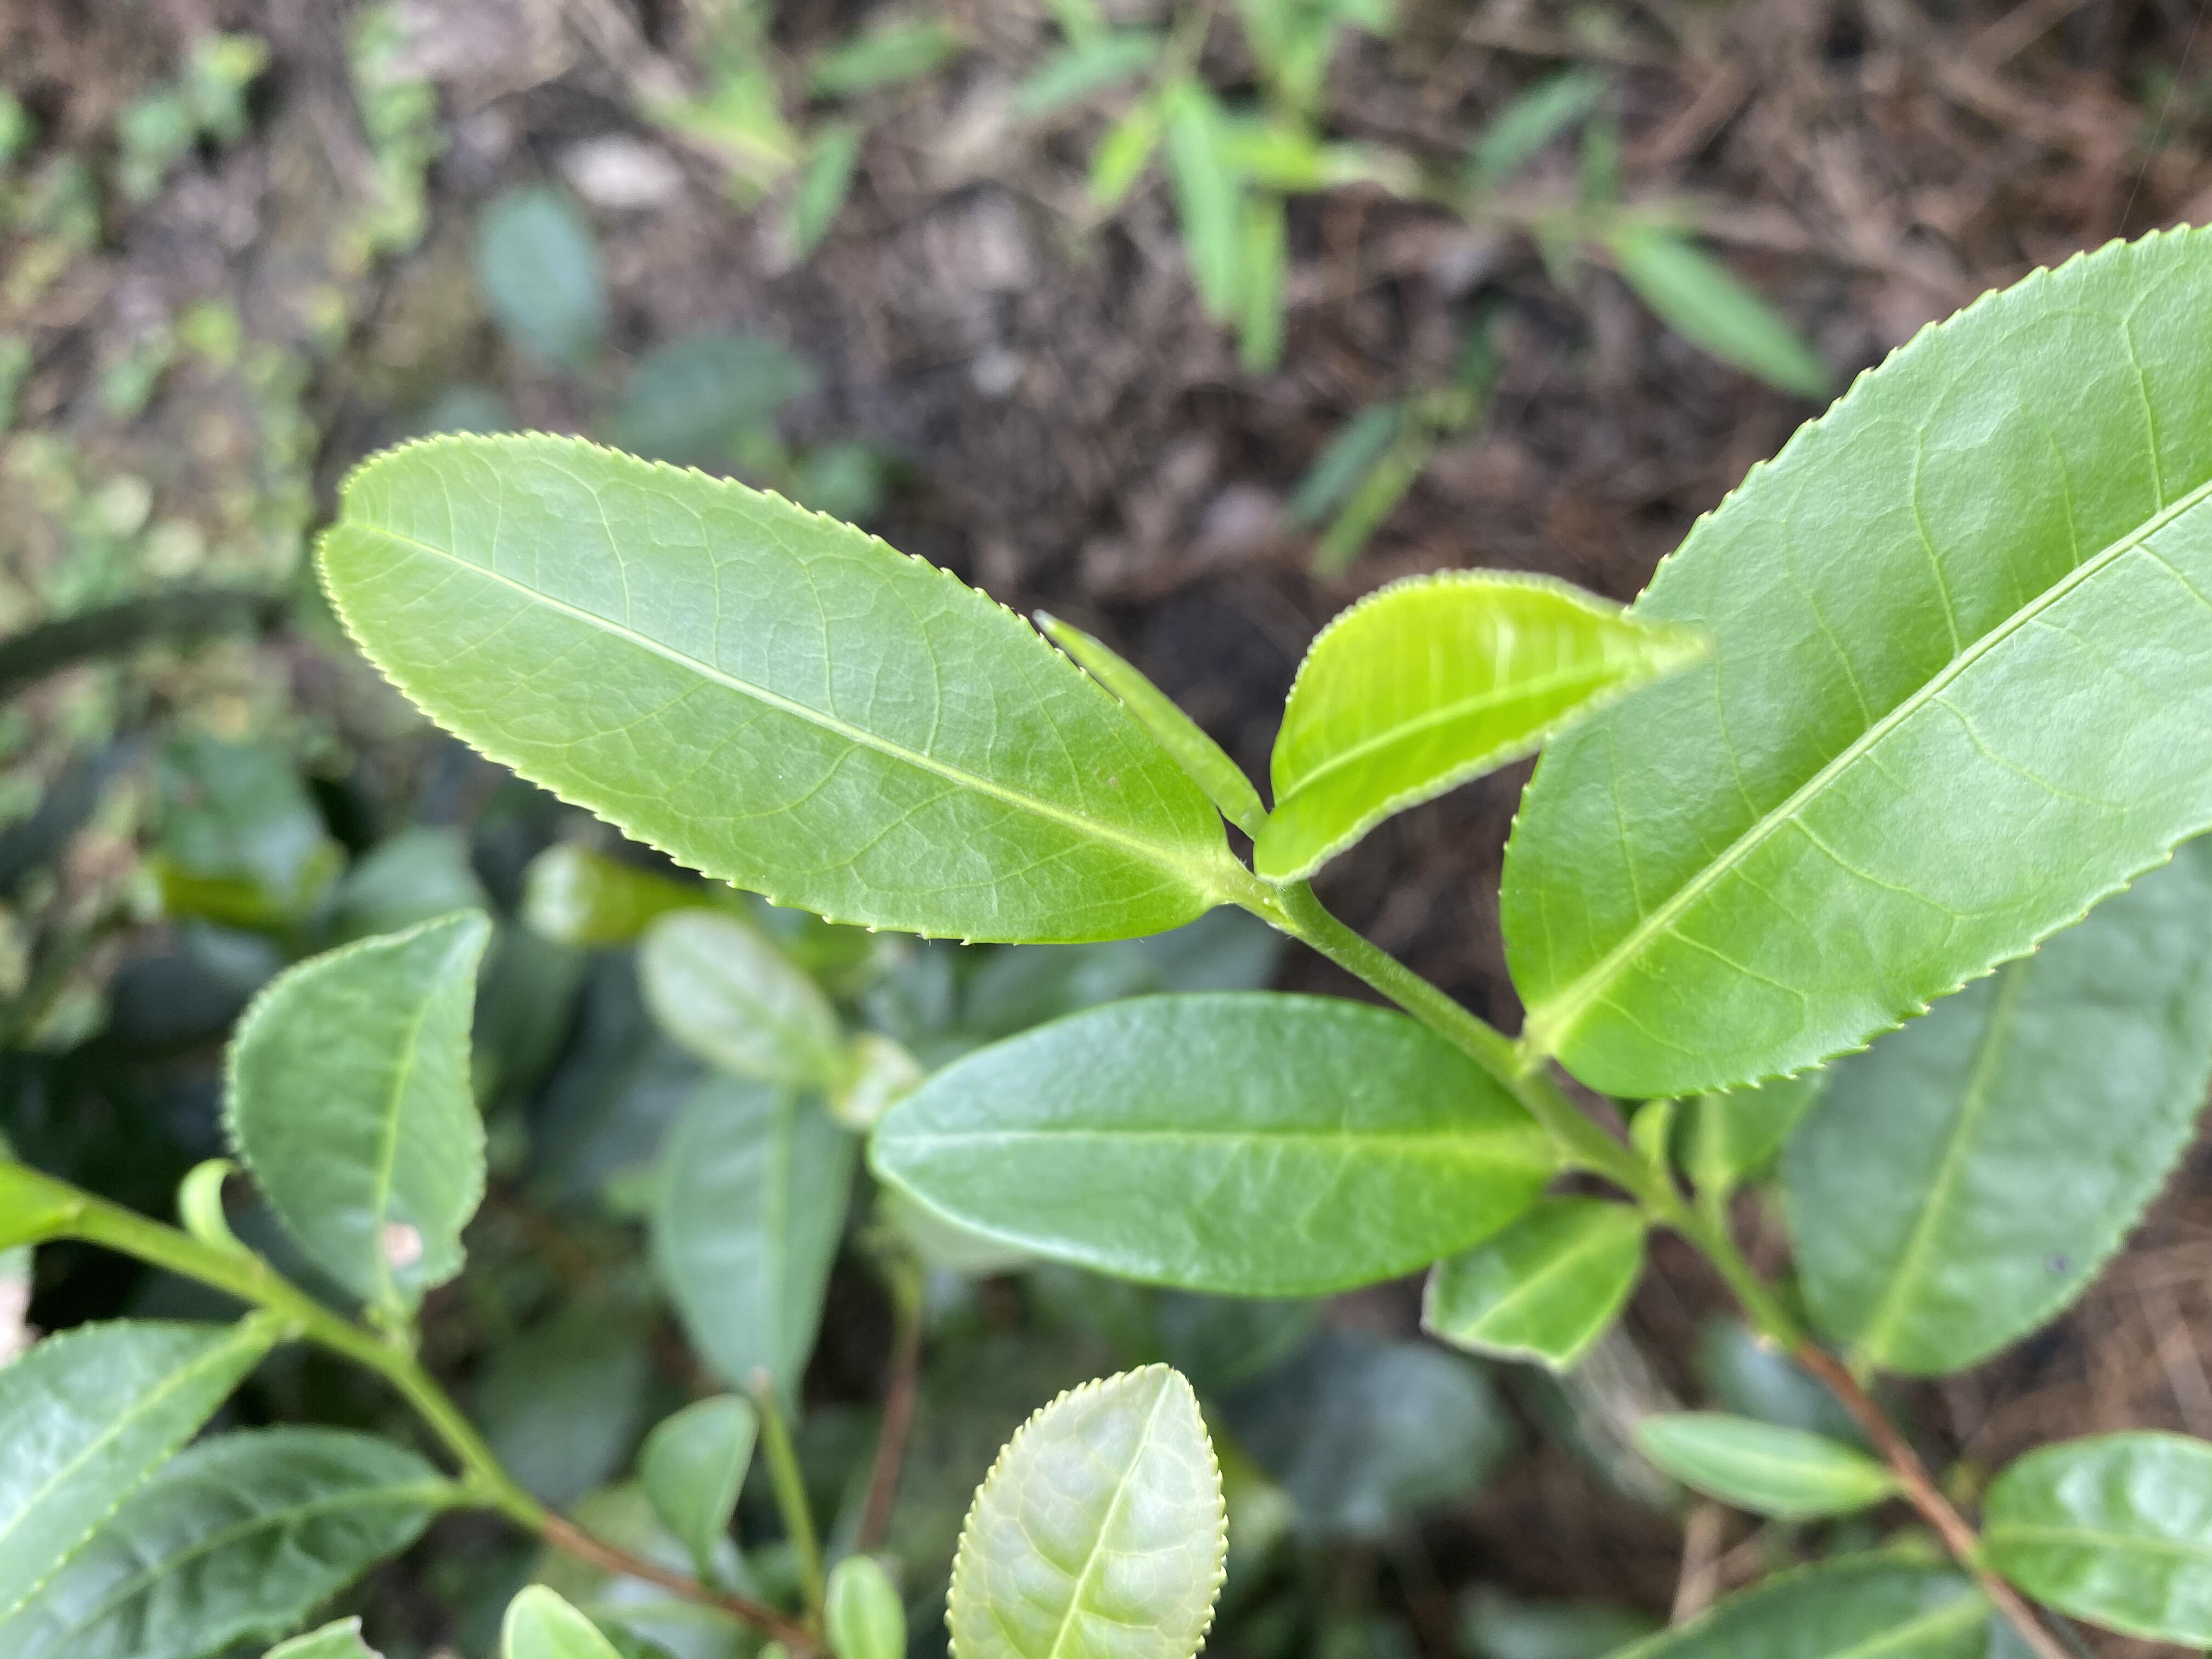chihuo_high: (1420, 1190, 1649, 1377)
healthy: (1496, 221, 2210, 1103), (314, 429, 1228, 948), (862, 988, 1554, 1298), (1251, 568, 1705, 889), (942, 1363, 1230, 1656)
tanju_low: (216, 908, 495, 1316)
